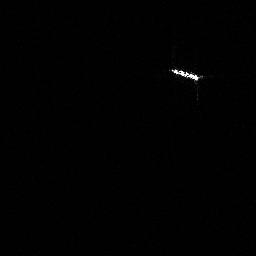ship: (167, 65, 202, 83)
